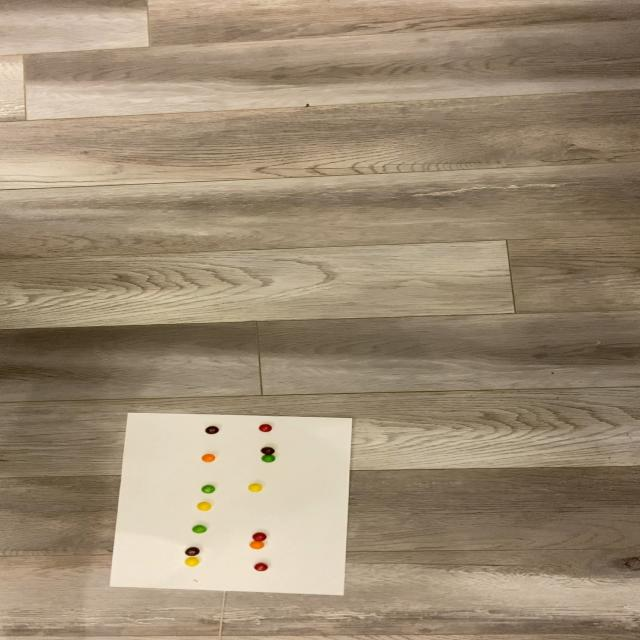smartie: (197, 502, 213, 512), (260, 446, 275, 456), (260, 454, 275, 464), (185, 547, 200, 557), (247, 484, 263, 493), (258, 424, 273, 433), (193, 524, 208, 533), (250, 541, 265, 550), (186, 558, 201, 567), (205, 426, 219, 435), (201, 484, 215, 493), (254, 563, 268, 572), (252, 534, 267, 542), (201, 455, 215, 463)
